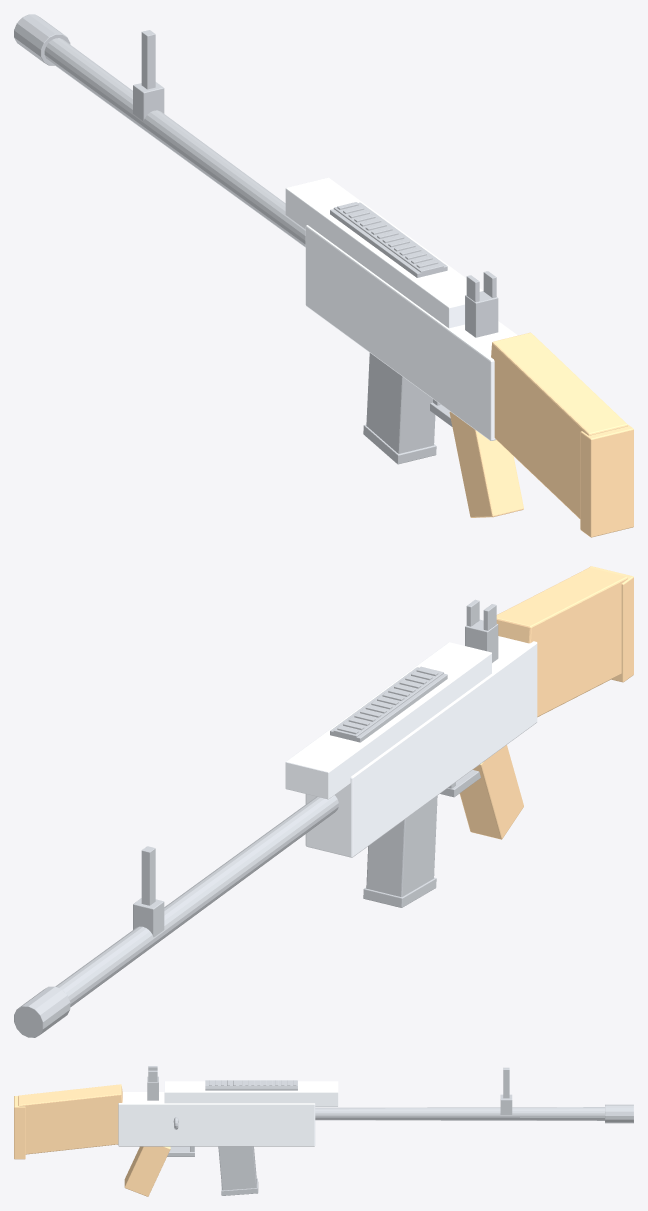
The picture shows the model from 3 angles, top to bottom: view 1: azimuth 30°, elevation 25°; view 2: azimuth 150°, elevation 25°; view 3: azimuth 270°, elevation 25°; orthographic projection. The views are drawn at different scales.
Visible parts, largest first — view 1: Receiver, StockGrip, ReceiverCover, Barrel, Stock, mag, Grip, StockIrons, TopRail, Muzzle; view 2: Receiver, StockGrip, ReceiverCover, Barrel, mag, Grip, StockIrons, TopRail, Muzzle, Stock; view 3: Receiver, StockGrip, Barrel, ReceiverCover, mag, Grip, TopRail, StockIrons, Stock, Muzzle, TriggerGuard.
Part boxes in pixels (x1,y1,x2,y2): Receiver: (305, 225, 517, 440); StockGrip: (491, 332, 627, 518); ReceiverCover: (285, 177, 482, 328); Barrel: (44, 38, 305, 247); Stock: (580, 424, 633, 537); mag: (363, 353, 436, 464); Grip: (449, 411, 523, 517); StockIrons: (133, 30, 498, 337); TopRail: (330, 202, 447, 277); Muzzle: (14, 14, 70, 65); Receiver: (305, 636, 537, 857); StockGrip: (496, 567, 627, 717); ReceiverCover: (285, 642, 491, 799); Barrel: (18, 795, 338, 1033); mag: (363, 795, 437, 907); Grip: (459, 745, 523, 839); StockIrons: (133, 599, 498, 937); TopRail: (330, 666, 447, 742); Muzzle: (14, 986, 70, 1037); Stock: (589, 566, 633, 682); Receiver: (118, 1092, 315, 1146); StockGrip: (18, 1084, 122, 1154); Barrel: (315, 1107, 604, 1120); ReceiverCover: (164, 1081, 338, 1106); mag: (218, 1146, 258, 1195); Grip: (124, 1146, 170, 1196); TopRail: (205, 1080, 297, 1090); StockIrons: (147, 1066, 512, 1114); Stock: (14, 1096, 25, 1159); Muzzle: (605, 1104, 633, 1123); TriggerGuard: (167, 1146, 194, 1156).
Size of the model in its own units: 0.0663 by 0.2364 by 1.07.
